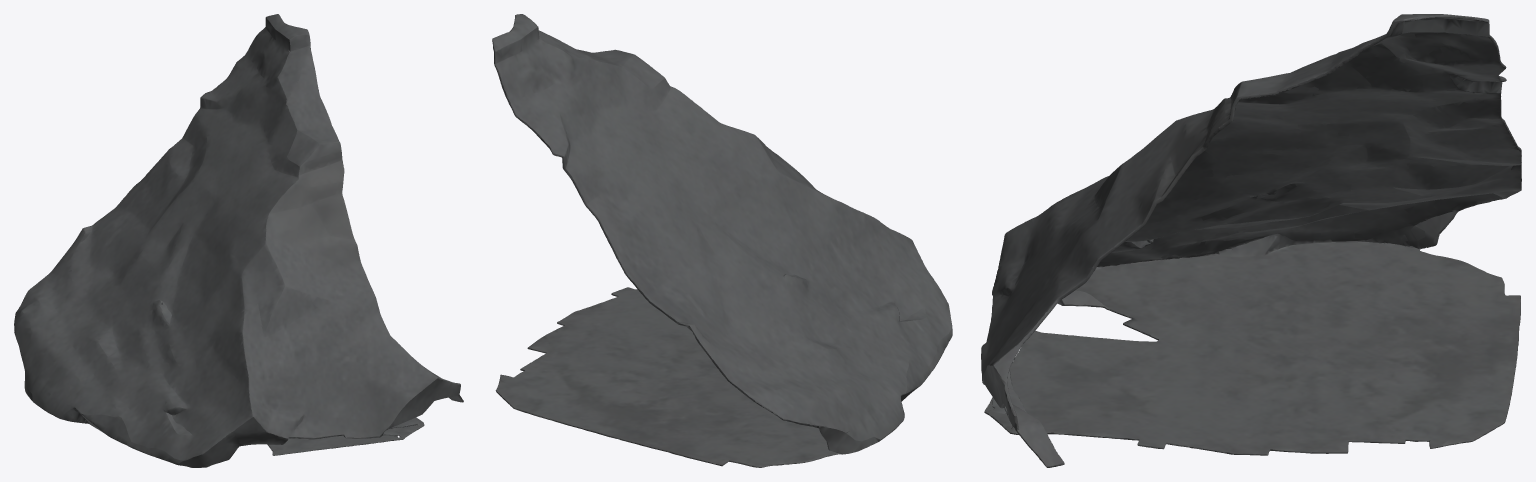
The picture shows the model from 3 angles, left to right: view 1: azimuth 30°, elevation 25°; view 2: azimuth 150°, elevation 25°; view 3: azimuth 270°, elevation 25°; orthographic projection. The views are drawn at different scales.
Parts seen in each view (by area): view 1: world; view 2: world; view 3: world.
Boxes of the visible parts, left/top/right/bottom form: world: left=14, top=14, right=463, bottom=467; world: left=492, top=14, right=952, bottom=467; world: left=981, top=14, right=1521, bottom=467.
Bounding box in the file's own units: 0.18 × 0.1573 × 0.1801.
Materials: 1 (1 with a texture image).
